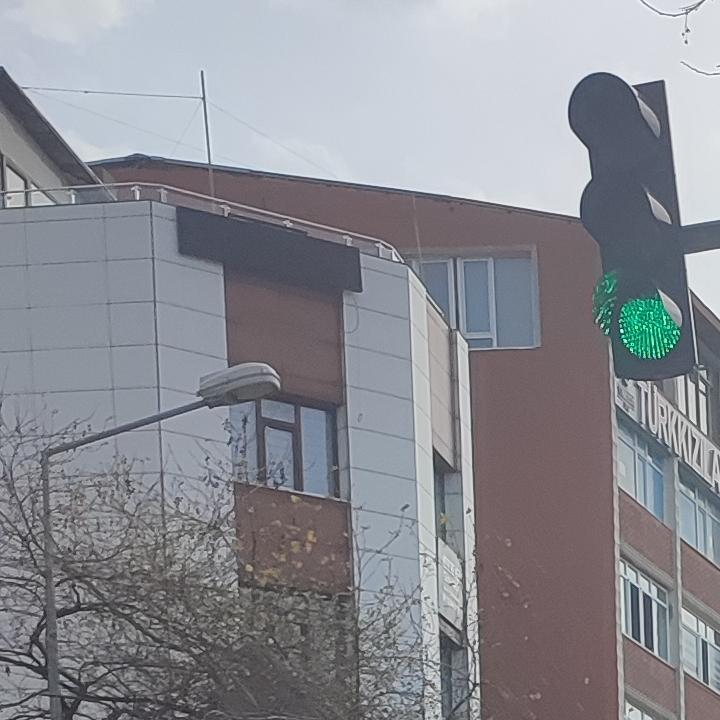green: (568, 66, 698, 376)
